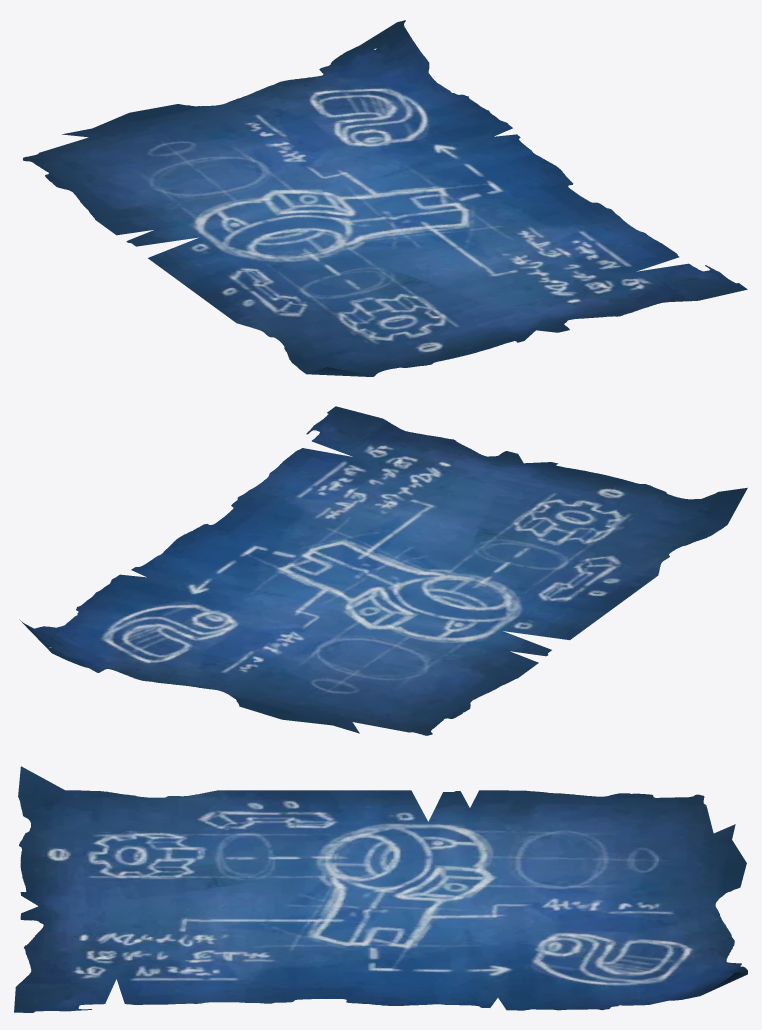
The picture shows the model from 3 angles, top to bottom: view 1: azimuth 30°, elevation 25°; view 2: azimuth 150°, elevation 25°; view 3: azimuth 270°, elevation 25°; orthographic projection. The views are drawn at different scales.
Size of the model in its own units: 1.61 by 0.1356 by 2.24.
1 material, 1 textured.
